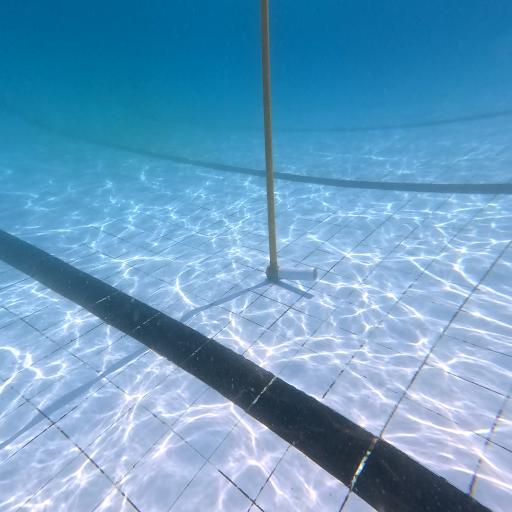pole_gate: (261, 1, 278, 280)
